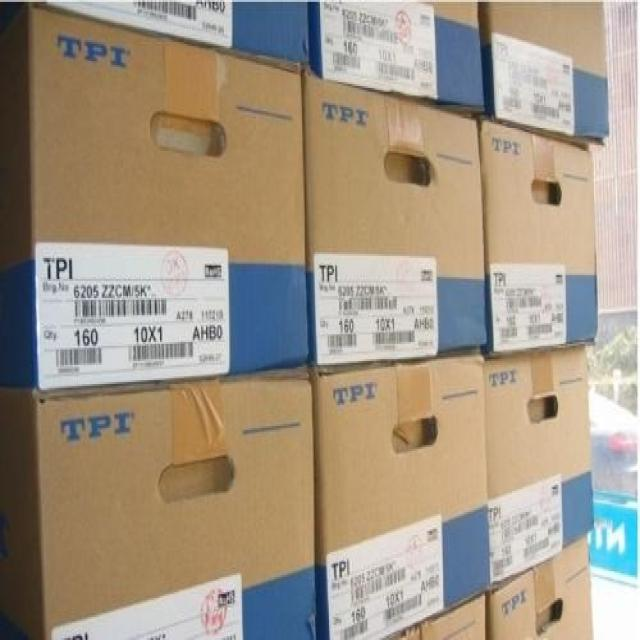box: (0, 5, 308, 399), (0, 377, 316, 638), (303, 75, 486, 370), (313, 353, 491, 637), (480, 122, 596, 356), (485, 345, 594, 590), (32, 1, 310, 75), (311, 2, 487, 117), (480, 4, 610, 147), (486, 537, 594, 638), (388, 595, 488, 638)
